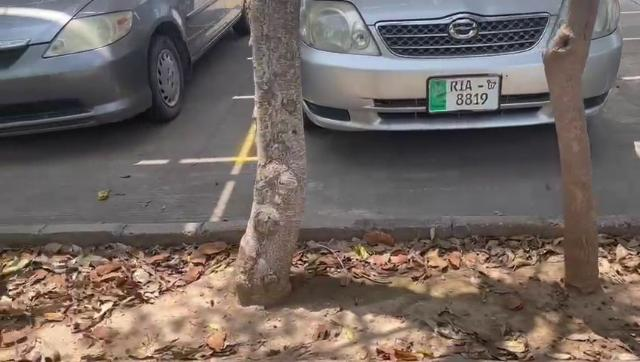plate: (424, 74, 504, 116)
